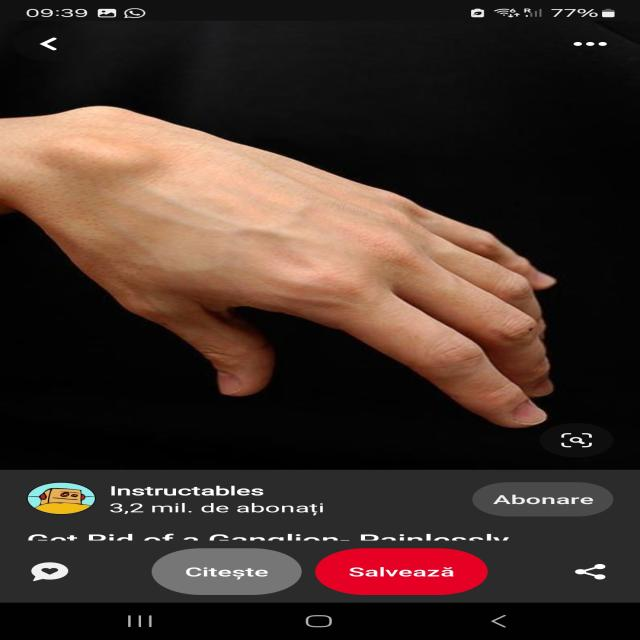hands: (18, 68, 629, 443)
